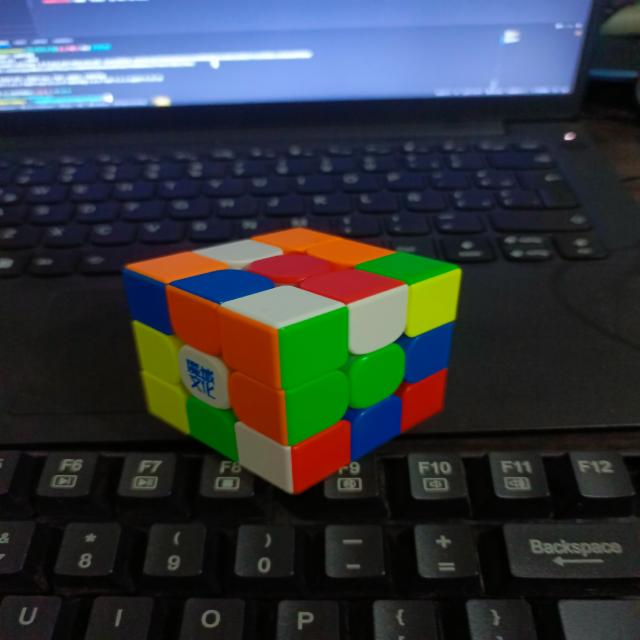rubik: (120, 225, 464, 494)
